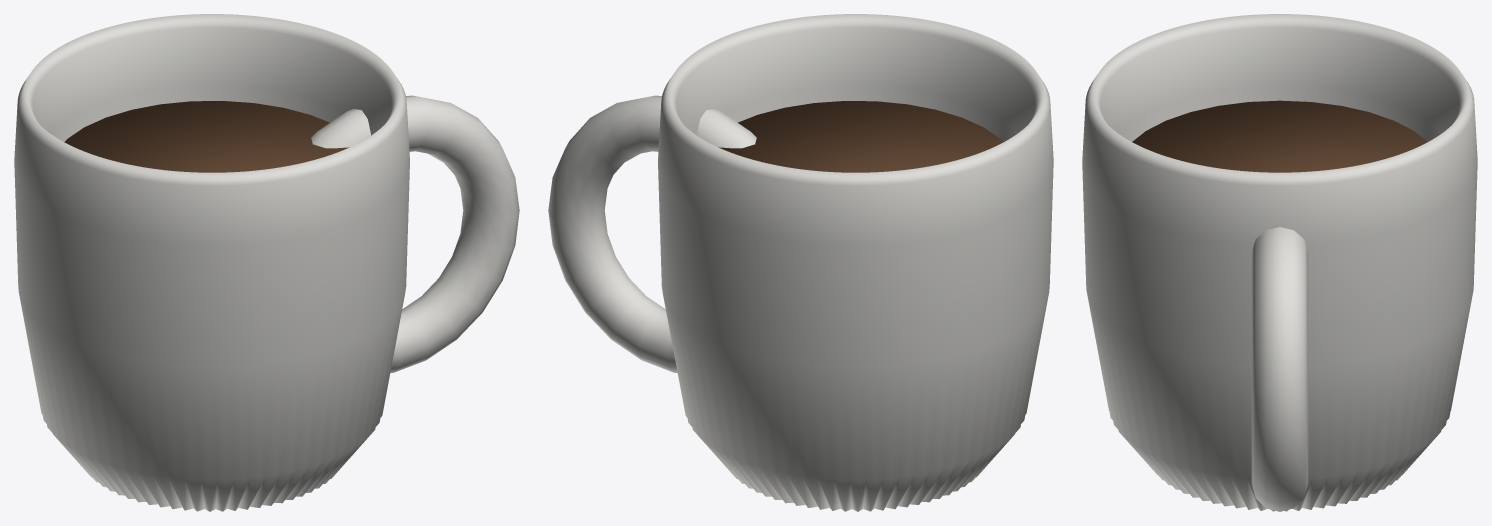
Rendered from mug.glb.
The picture shows the model from 3 angles, left to right: view 1: azimuth 30°, elevation 25°; view 2: azimuth 150°, elevation 25°; view 3: azimuth 270°, elevation 25°; orthographic projection.
Parts seen in each view (by area): view 1: Mug_Body, Mug_Handle, Mug_Coffee; view 2: Mug_Body, Mug_Handle, Mug_Coffee; view 3: Mug_Body, Mug_Handle, Mug_Coffee.
Part boxes in pixels (bbox=[...]): Mug_Body: bbox=[14, 14, 409, 511]; Mug_Handle: bbox=[311, 95, 519, 372]; Mug_Coffee: bbox=[64, 101, 349, 172]; Mug_Body: bbox=[658, 14, 1053, 511]; Mug_Handle: bbox=[548, 95, 756, 372]; Mug_Coffee: bbox=[718, 101, 1003, 172]; Mug_Body: bbox=[1082, 14, 1477, 511]; Mug_Handle: bbox=[1251, 227, 1308, 511]; Mug_Coffee: bbox=[1132, 100, 1427, 172].
Bounding box in the file's own units: 0.1361 × 0.1027 × 0.0982.
